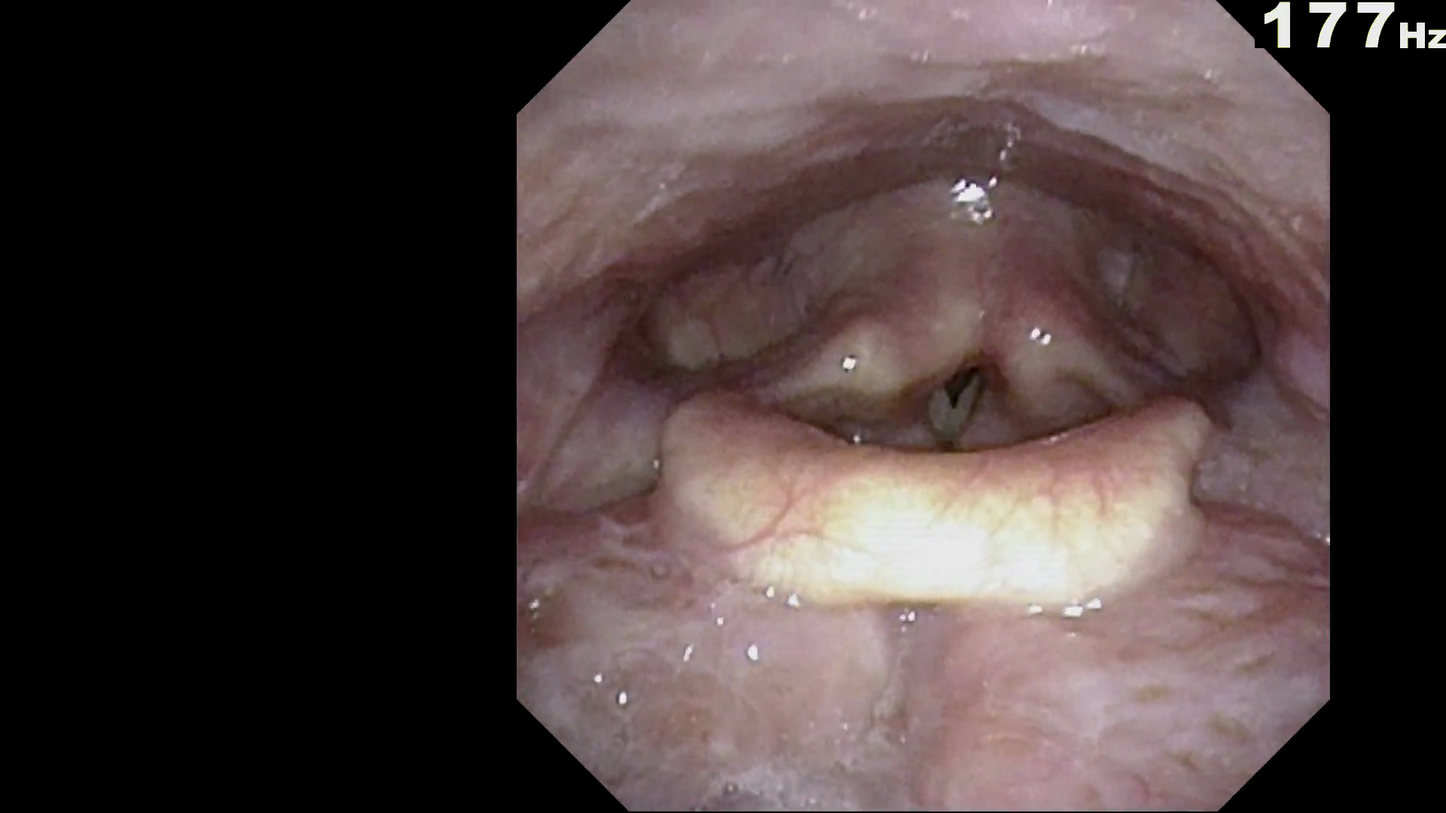epiglottis: (683, 416, 1194, 609)
trachea: (907, 327, 1015, 462)
